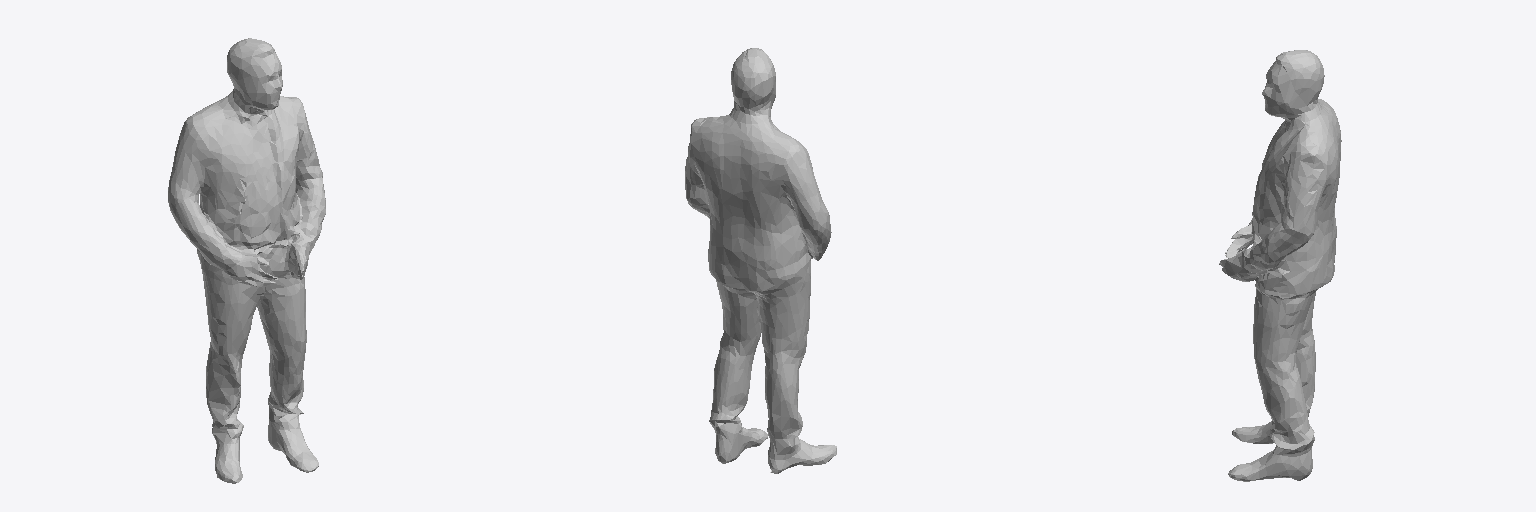
File: man.obj
3 renders of one model, left to right at view 1: azimuth 30°, elevation 25°; view 2: azimuth 150°, elevation 25°; view 3: azimuth 270°, elevation 25°, orthographic.
Parts seen in each view (by area): view 1: Low_poly_man_wearing_suit; view 2: Low_poly_man_wearing_suit; view 3: Low_poly_man_wearing_suit.
Part boxes in pixels (x1,y1,x2,y2): Low_poly_man_wearing_suit: (168,38,325,483); Low_poly_man_wearing_suit: (685,48,836,473); Low_poly_man_wearing_suit: (1219,50,1341,481).
Bounding box in the file's own units: 0.6285 × 1.73 × 0.4643.